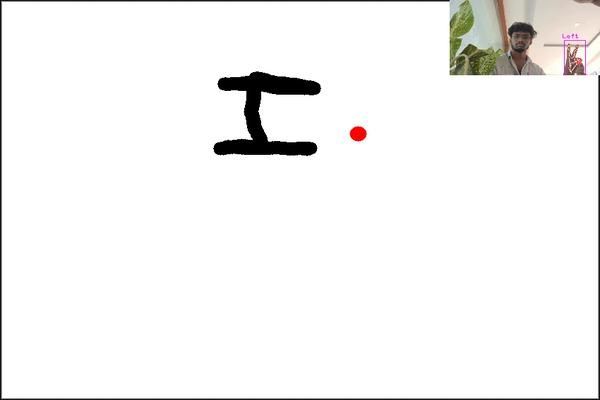i: (202, 57, 329, 166)
